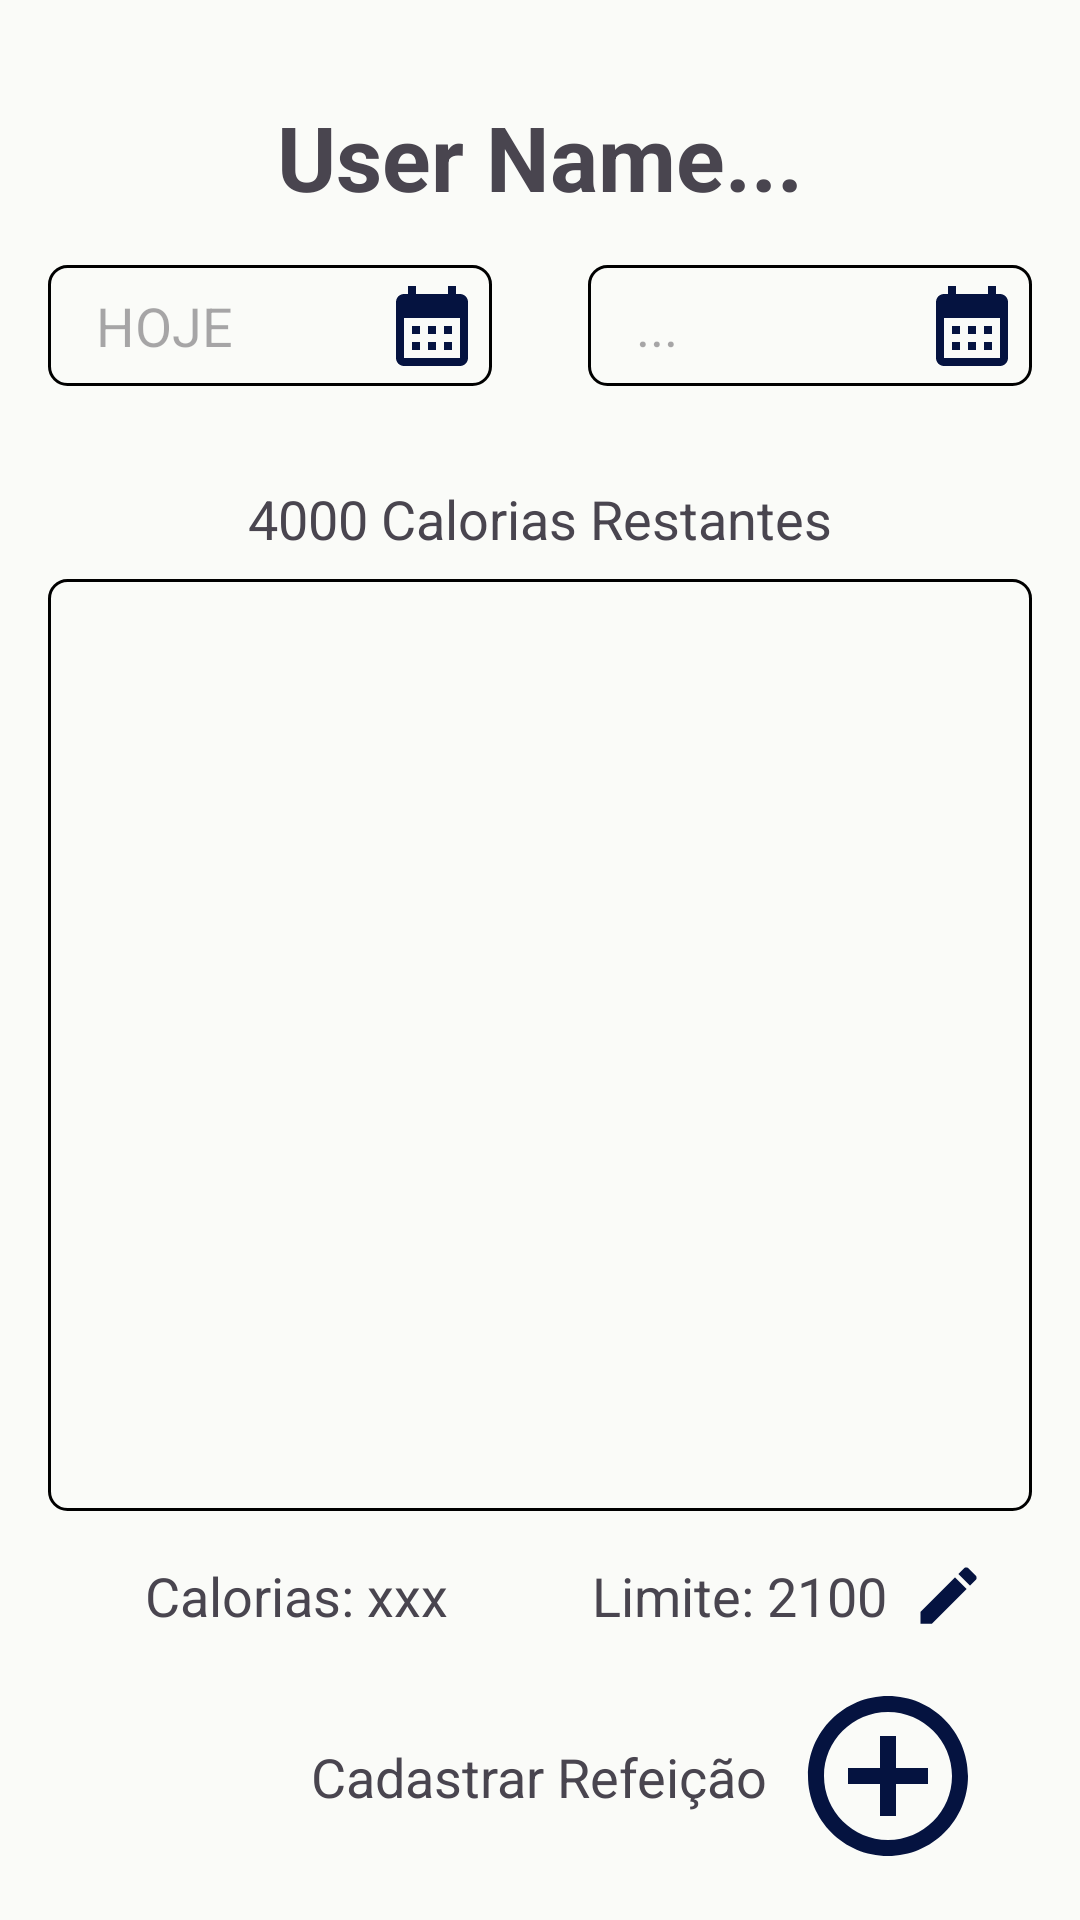

Icon click points for this 1080 × 1920 phone screenshot, format (x=x, y=y):
add circle: (x=888, y=1776)
calendar month: (x=432, y=326), (x=972, y=326)
edit: (x=948, y=1595)
